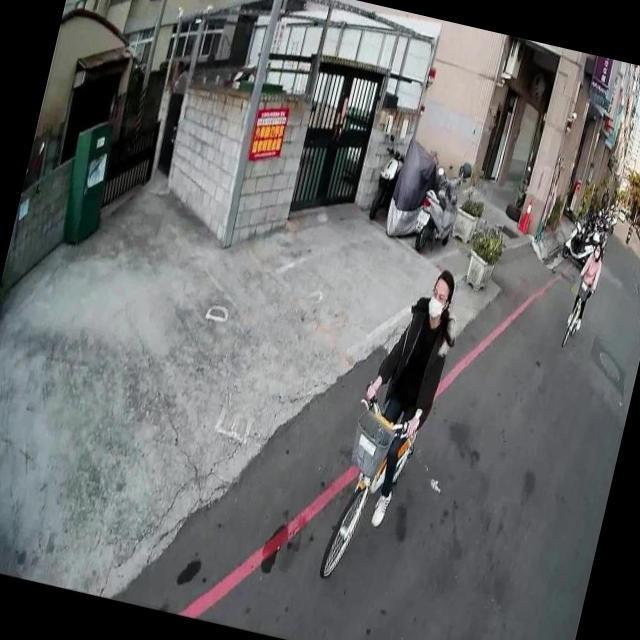person: (332, 251, 472, 537), (562, 237, 609, 336)
